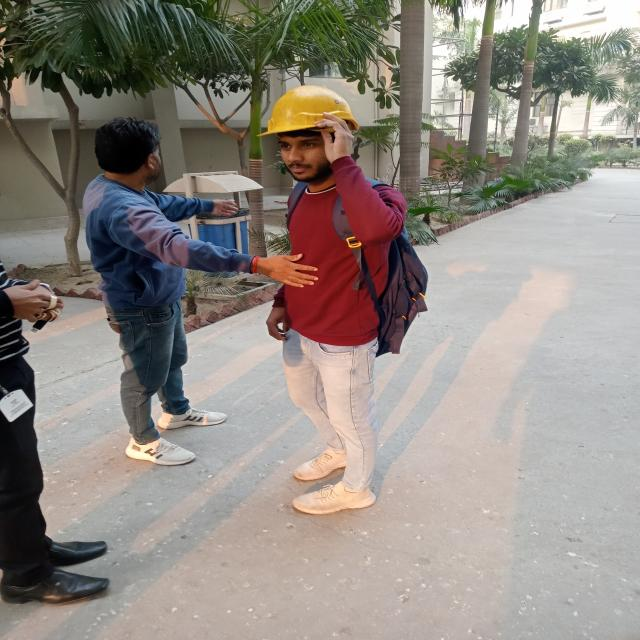no jacket: (247, 80, 403, 527)
unsafe: (62, 110, 231, 480)
